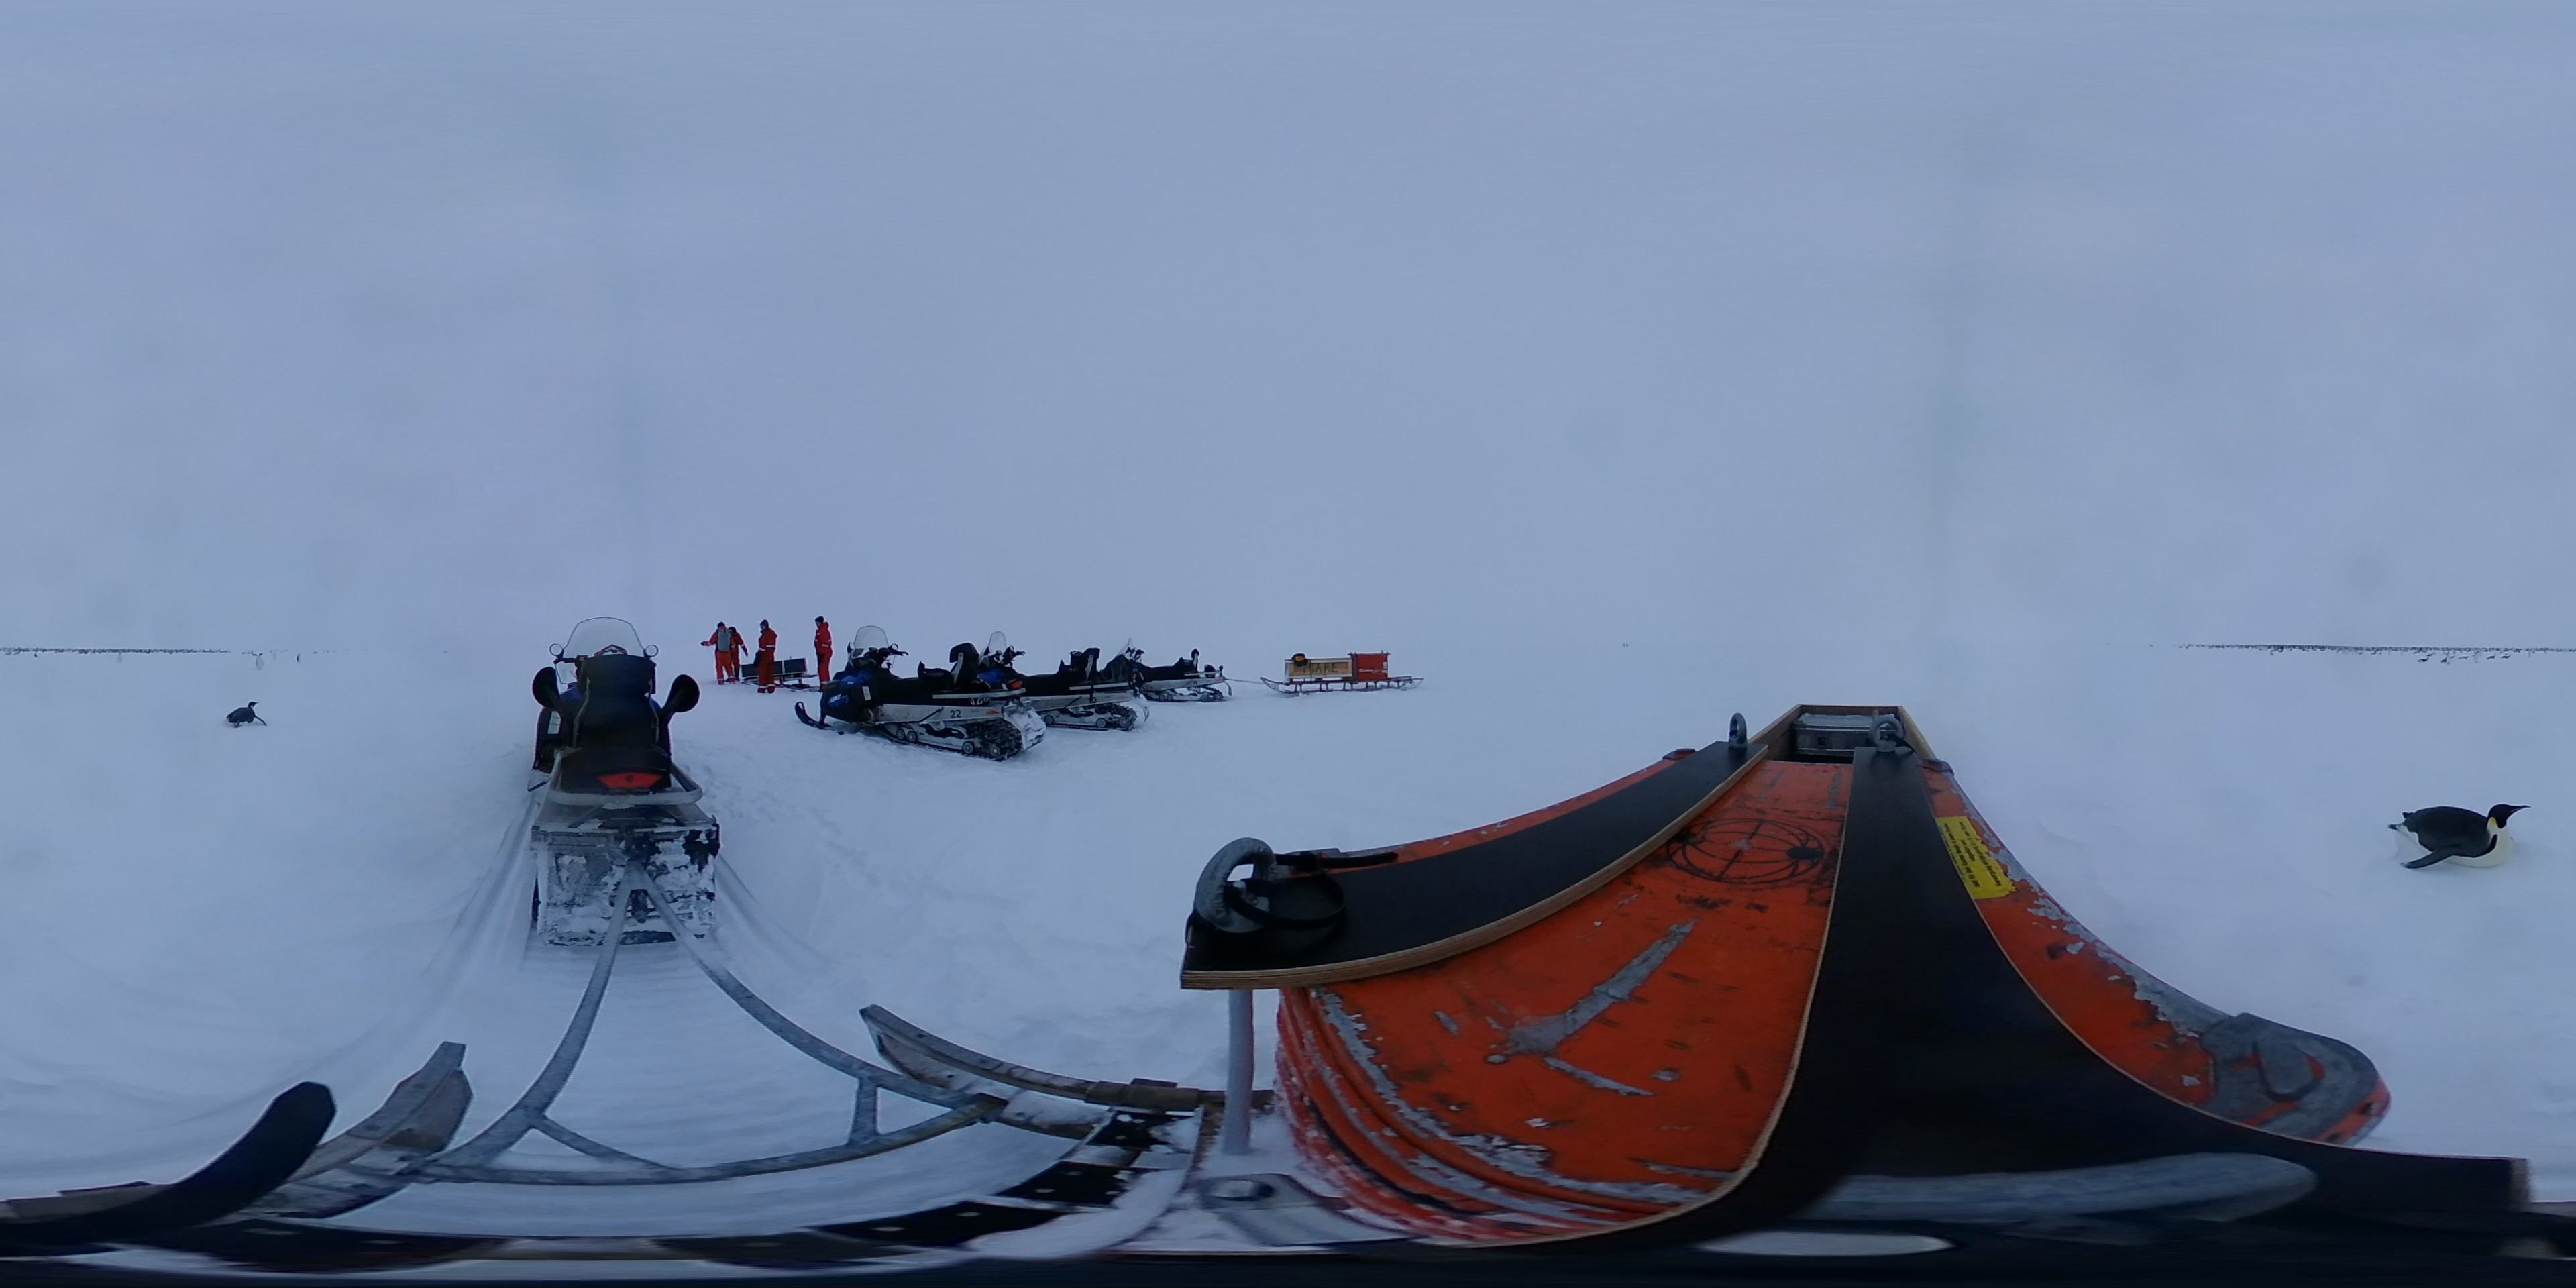adult_toboggan_penguin: (2385, 798, 2533, 871), (220, 700, 266, 728)
researcher: (751, 618, 784, 695), (812, 611, 836, 692), (713, 621, 736, 683)
